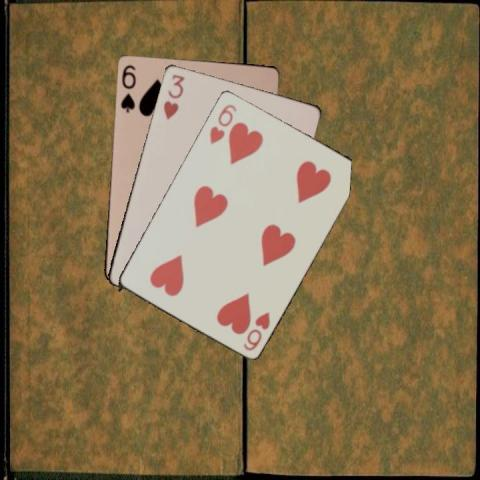3h: (160, 70, 185, 120)
6h: (206, 101, 238, 145), (240, 309, 271, 352)
6s: (118, 61, 138, 114)
